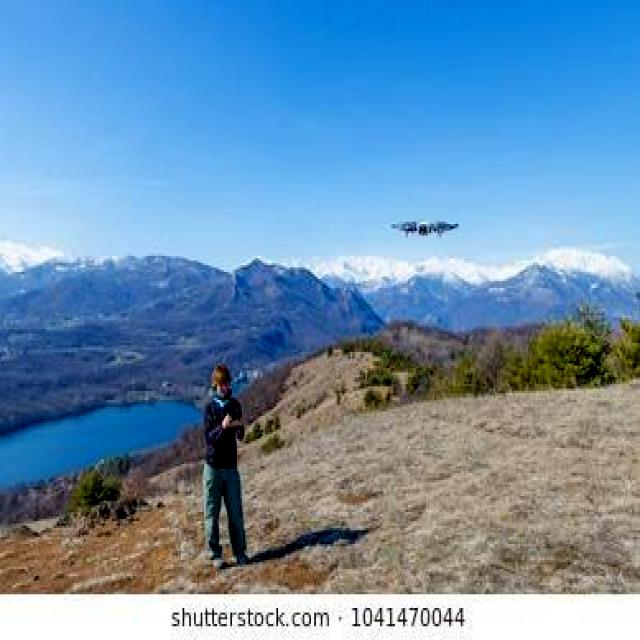drone: (390, 213, 461, 242)
